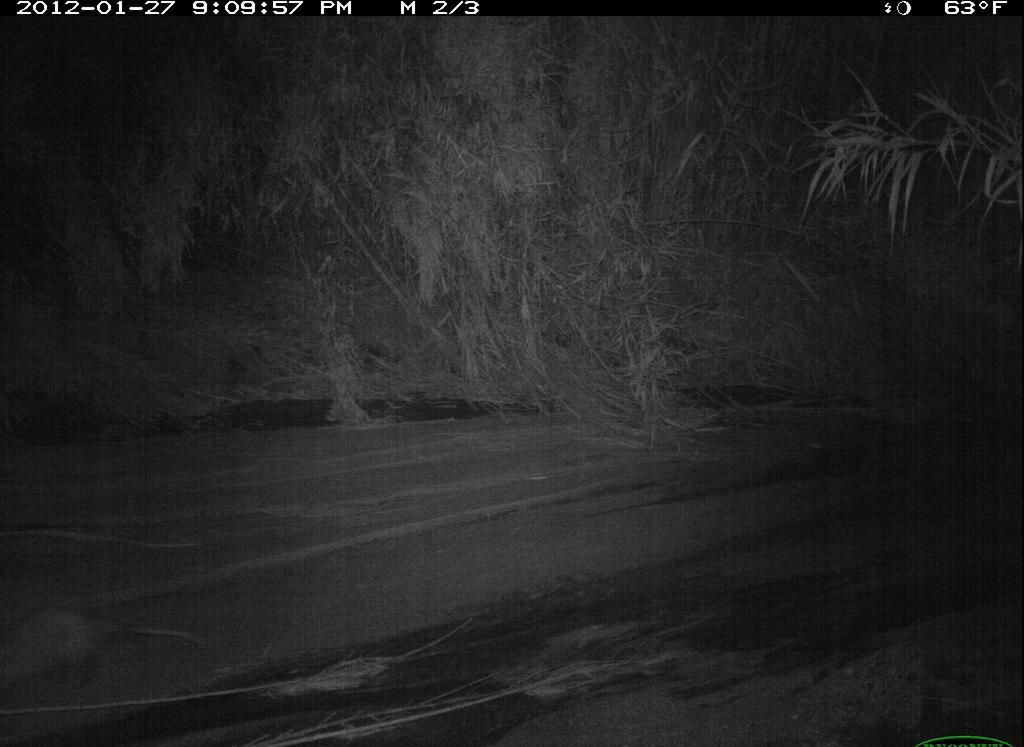opossum: (2, 579, 228, 721)
